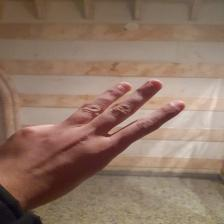five: (12, 79, 189, 183)
